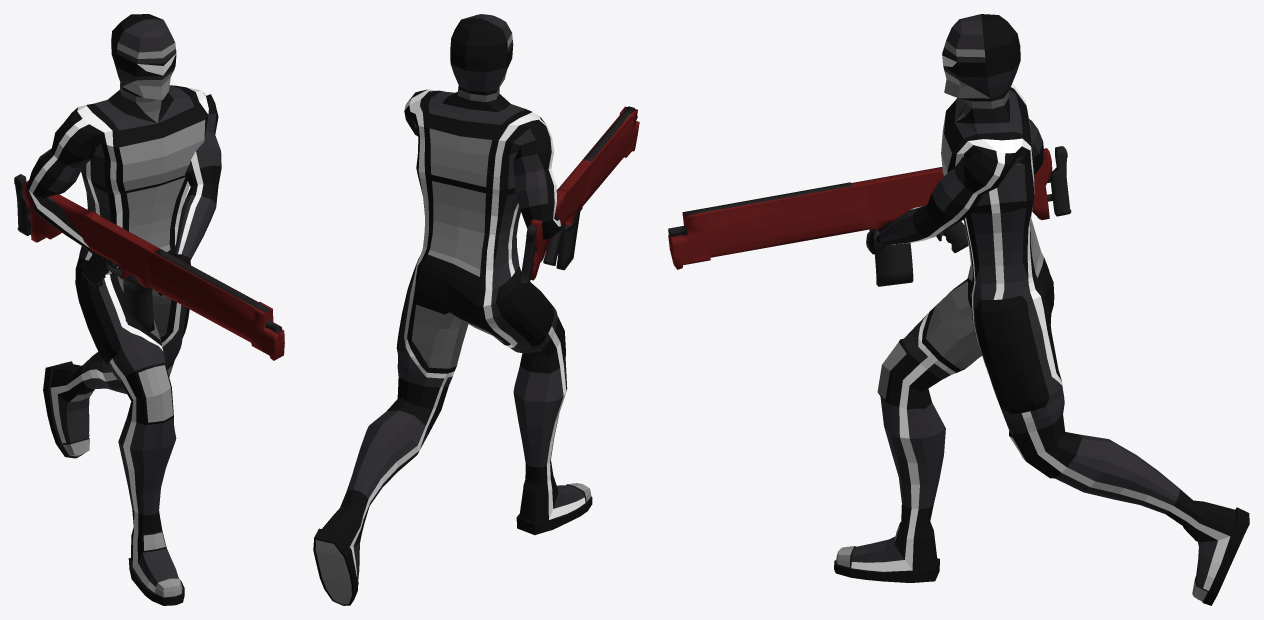
The model's file is ASR4.obj.
3 views of the same model, side by side, from view 1: azimuth 30°, elevation 25°; view 2: azimuth 150°, elevation 25°; view 3: azimuth 270°, elevation 25° (orthographic). The views are drawn at different scales.
Parts seen in each view (by area): view 1: metarig_object_metarig_mesh, metarig_object.001_metarig_mesh.001; view 2: metarig_object_metarig_mesh, metarig_object.001_metarig_mesh.001; view 3: metarig_object_metarig_mesh, metarig_object.001_metarig_mesh.001.
Boxes of the visible parts, x1,y1,x2,y2 form: metarig_object_metarig_mesh: [27, 14, 221, 605]; metarig_object.001_metarig_mesh.001: [14, 174, 284, 360]; metarig_object_metarig_mesh: [313, 14, 592, 605]; metarig_object.001_metarig_mesh.001: [519, 106, 639, 285]; metarig_object_metarig_mesh: [834, 14, 1249, 605]; metarig_object.001_metarig_mesh.001: [668, 146, 1071, 286].
Size of the model in its own units: 0.5713 by 1.75 by 1.61.
2 materials, 2 textured.
